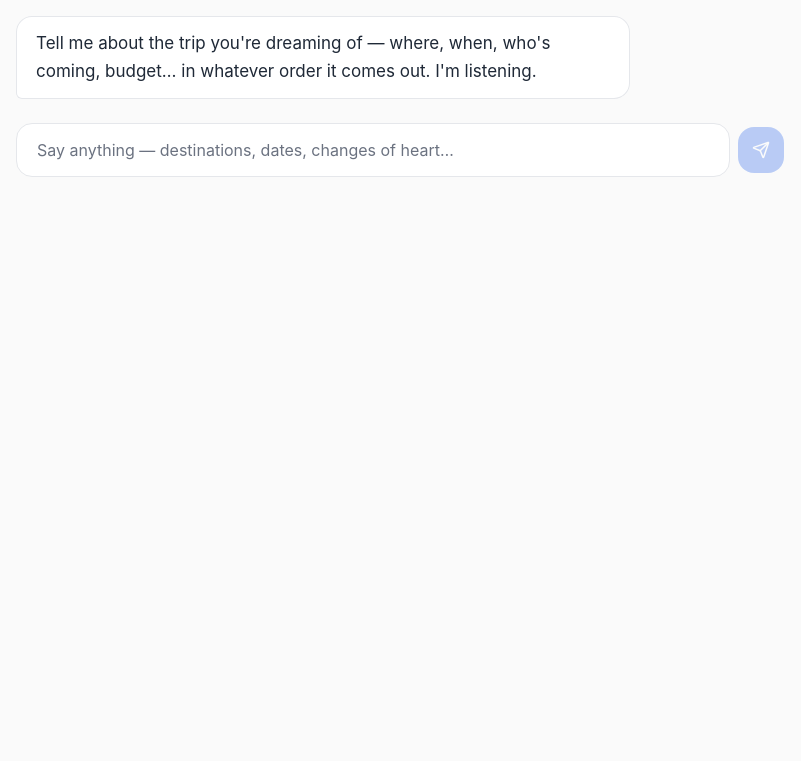
Test: the calendar in the chat › "I'm flexible" answers without dates
Type "tryna go london and madrid" into the field with placeholder "Say anything — destinations, dates, changes of heart…" at (373, 150), box [16,123,730,177]
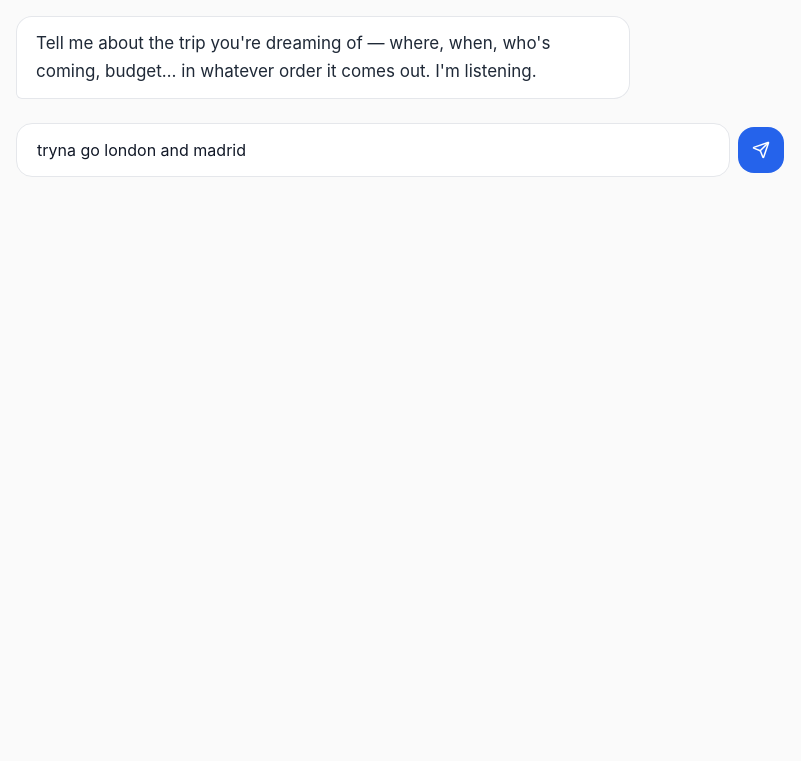
Submit the form with placeholder "Say anything", box [16,123,784,177]
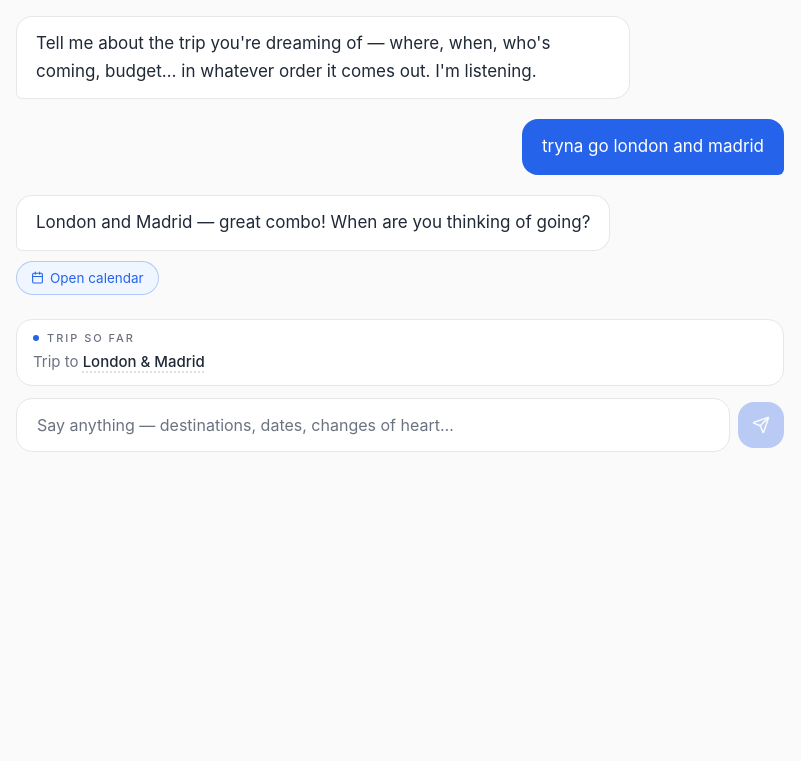
Click the button "Open calendar" at (87, 278), box [16,260,159,295]
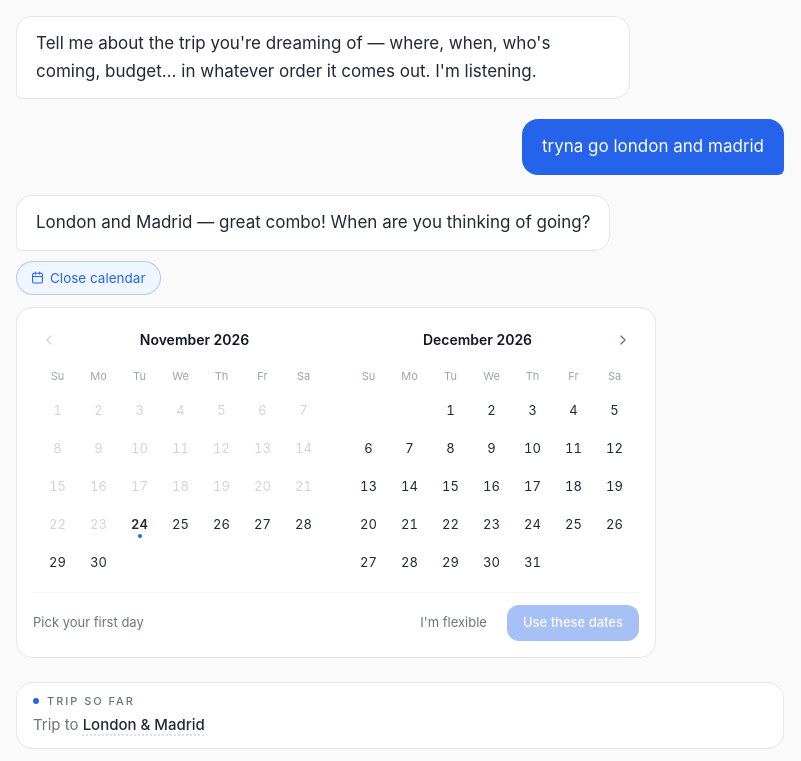
Expected: the element with test id "date-range-calendar" is shown, [16,307,656,658]
Click the button "I'm flexible" at (454, 623), box [408,605,499,641]
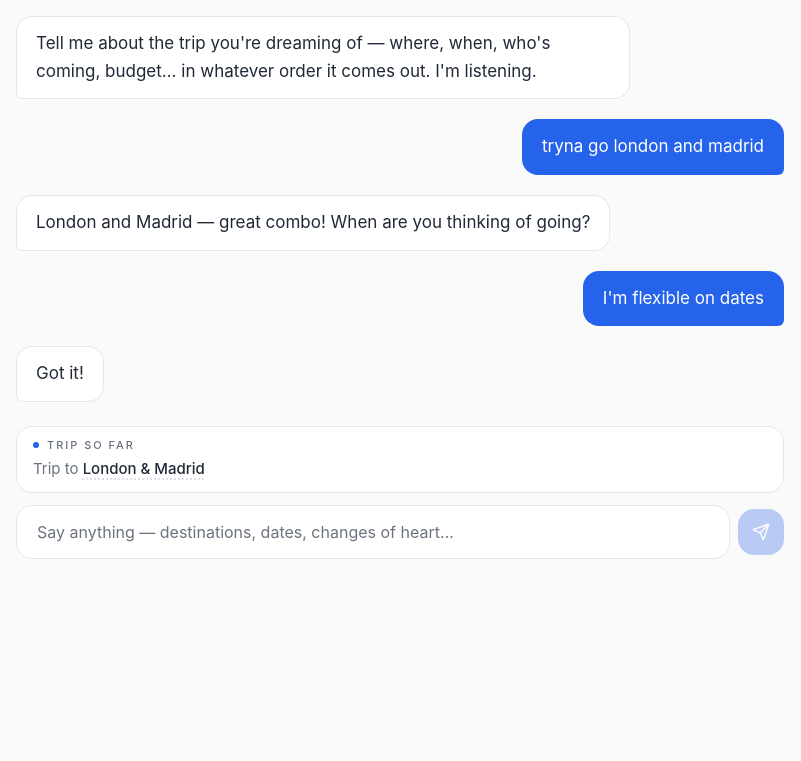
Expected: the text "I'm flexible on dates" is shown, [583,270,784,326]
